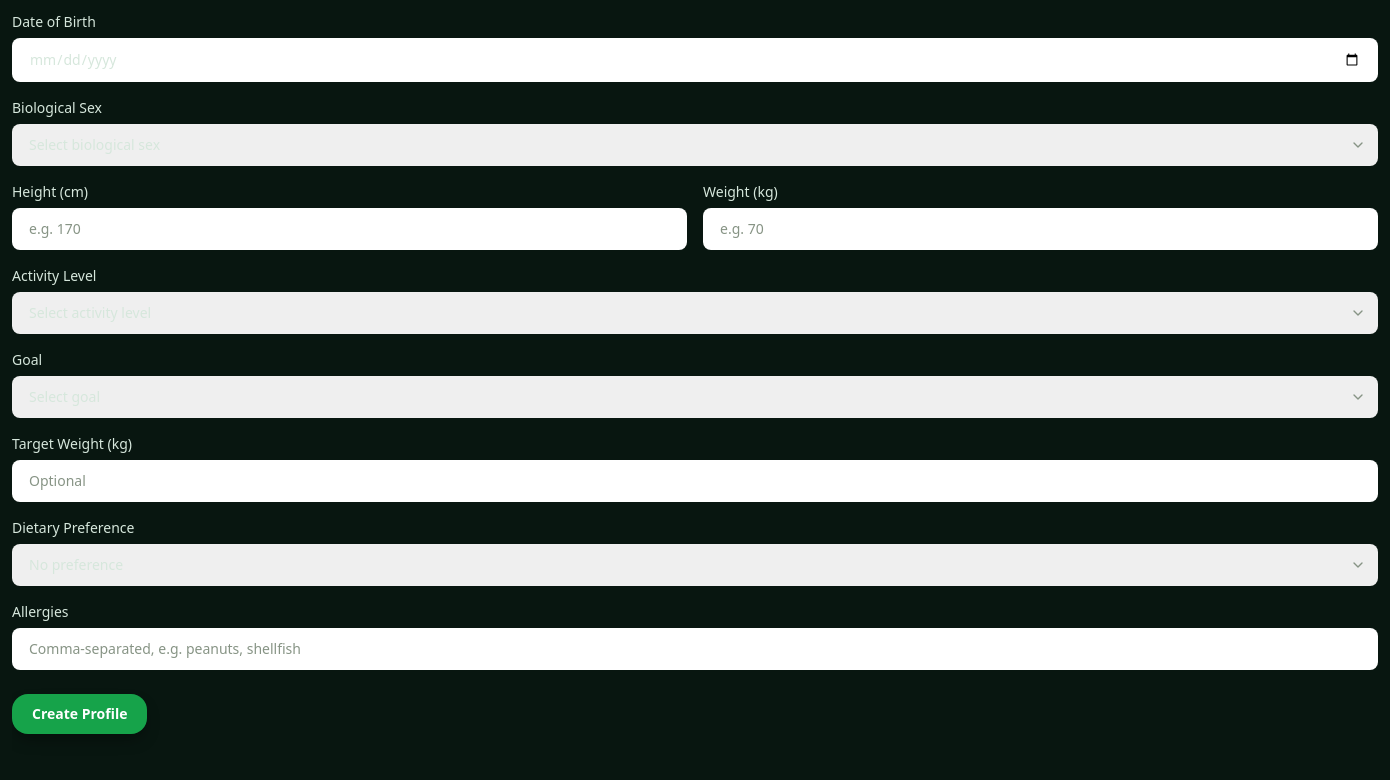
Scenario: NutritionProfileForm › shows weight validation error for out-of-range value
Type "5" into the number field with placeholder "e.g. 70" at (1040, 229), box [703,208,1378,250]
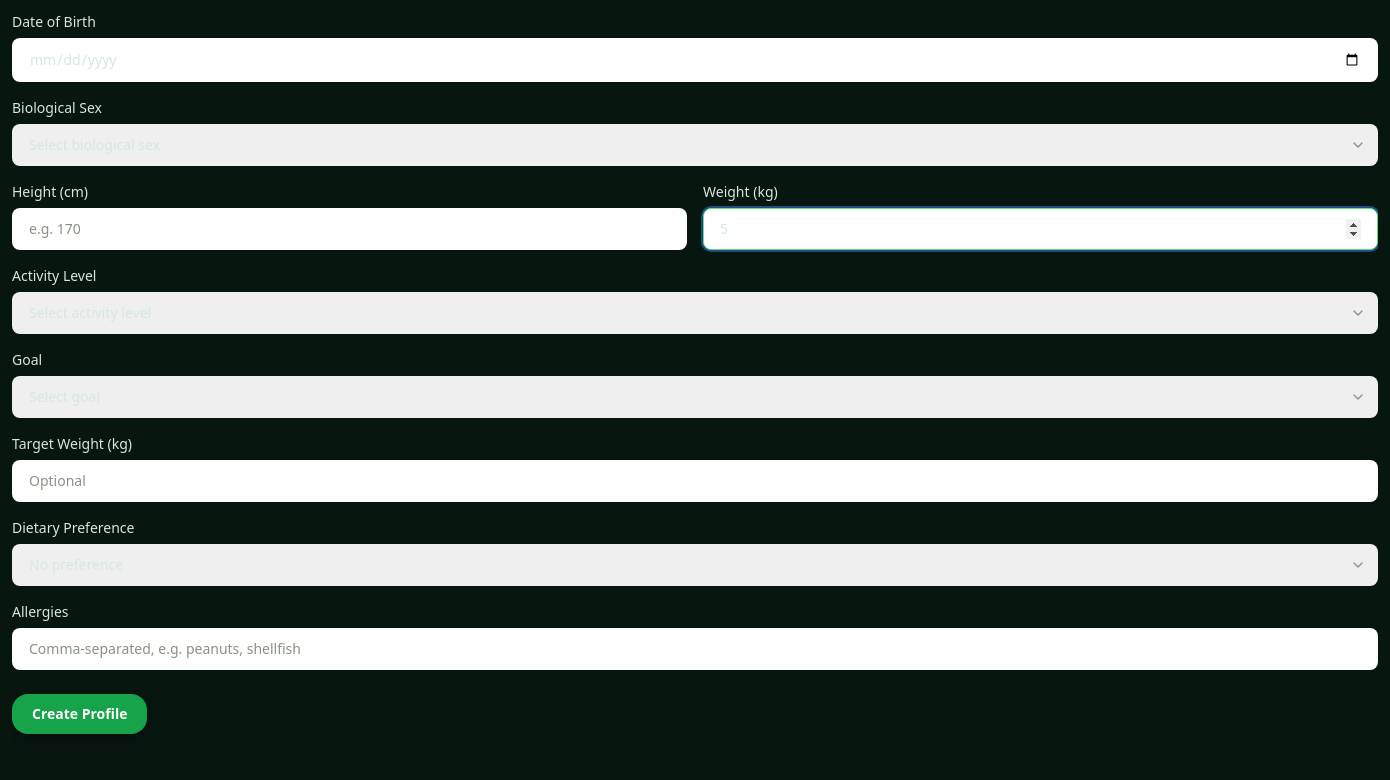
Click the button "Create Profile" at (80, 714), box [12,694,148,734]
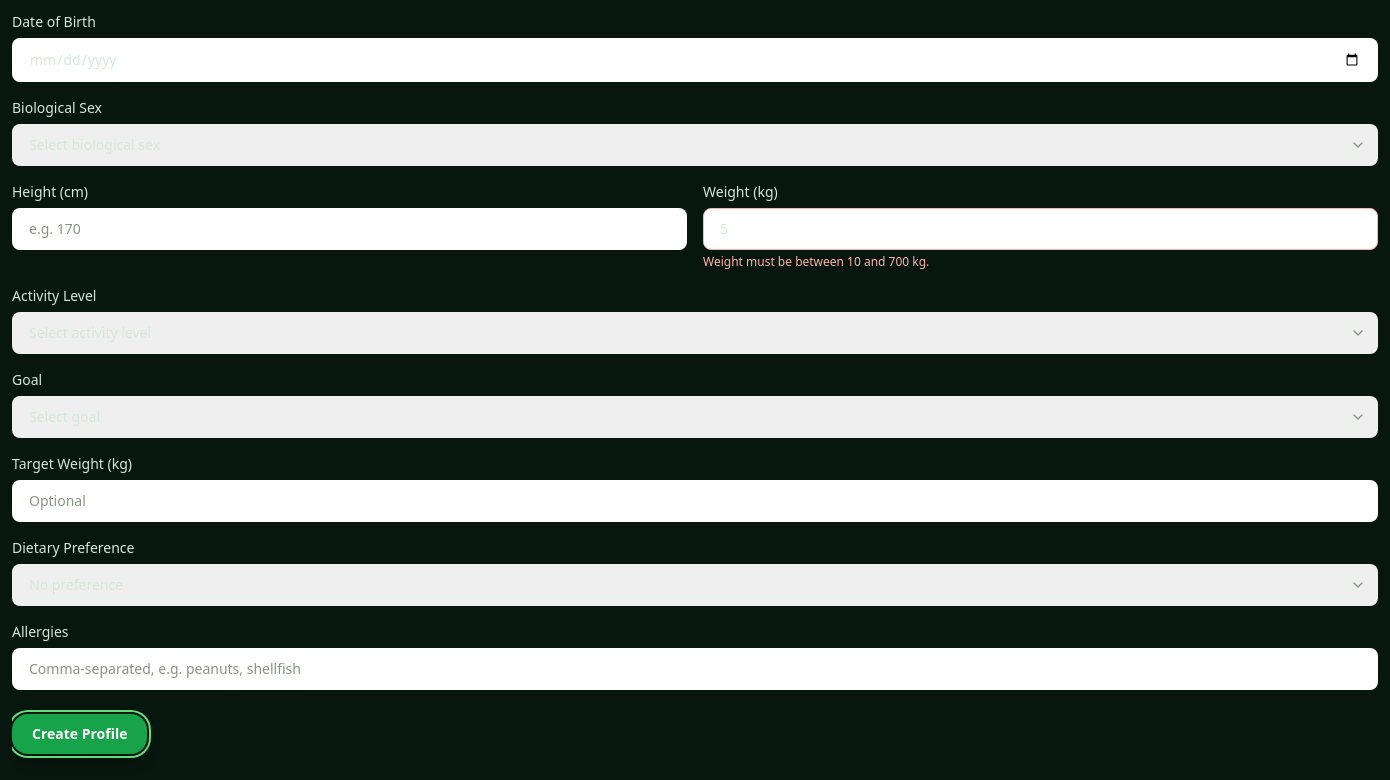
Now the text "Weight must be between 10 and 700 kg." is shown, box [703,253,929,270]
